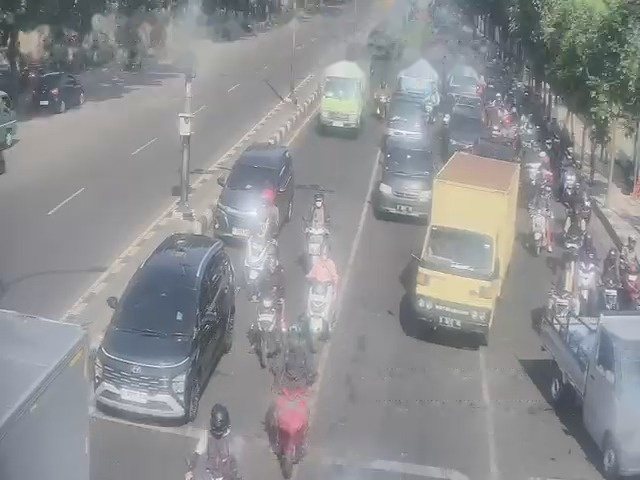Mobil: (100, 227, 231, 418), (541, 308, 639, 479), (216, 142, 291, 237), (374, 137, 433, 218), (320, 53, 365, 136), (443, 103, 490, 154), (386, 95, 427, 139)
Motor: (271, 389, 309, 461), (305, 283, 331, 343), (563, 189, 590, 244), (255, 301, 280, 358), (545, 275, 575, 319), (577, 250, 598, 312), (531, 210, 543, 254), (307, 223, 320, 262), (536, 209, 547, 252), (604, 277, 618, 309)
Truk: (423, 148, 518, 333), (397, 59, 439, 108)
